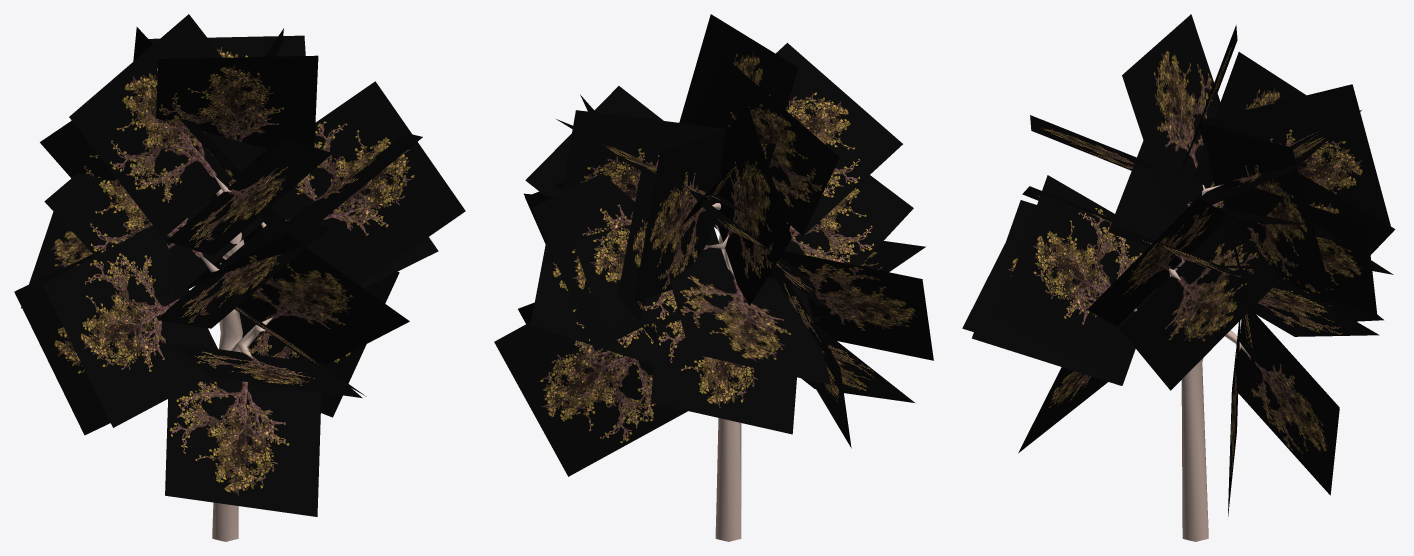
Rendered from tree12.glb.
The picture shows the model from 3 angles, left to right: view 1: azimuth 30°, elevation 25°; view 2: azimuth 150°, elevation 25°; view 3: azimuth 270°, elevation 25°; orthographic projection. The views are drawn at different scales.
Bounding box in the file's own units: 5.64 × 7.02 × 5.53.
Materials: 2 (1 with a texture image).
